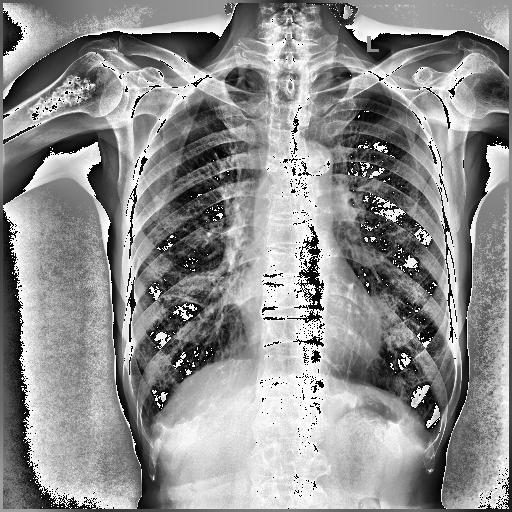10- Pleural effusion: (130, 406, 156, 442), (416, 414, 442, 440)
11- Pleural thickening: (130, 406, 156, 442), (416, 414, 442, 440), (330, 65, 378, 79), (421, 430, 441, 450), (140, 419, 155, 441)
13- Pulmonary fibrosis: (172, 292, 208, 309)
5- ILD: (134, 172, 238, 413), (126, 238, 244, 386), (364, 221, 450, 420), (358, 256, 446, 346), (397, 288, 444, 420), (134, 275, 180, 392)
9- Other lesion: (126, 238, 244, 386), (358, 256, 446, 346), (26, 71, 98, 124), (28, 76, 98, 120), (23, 78, 96, 120)
